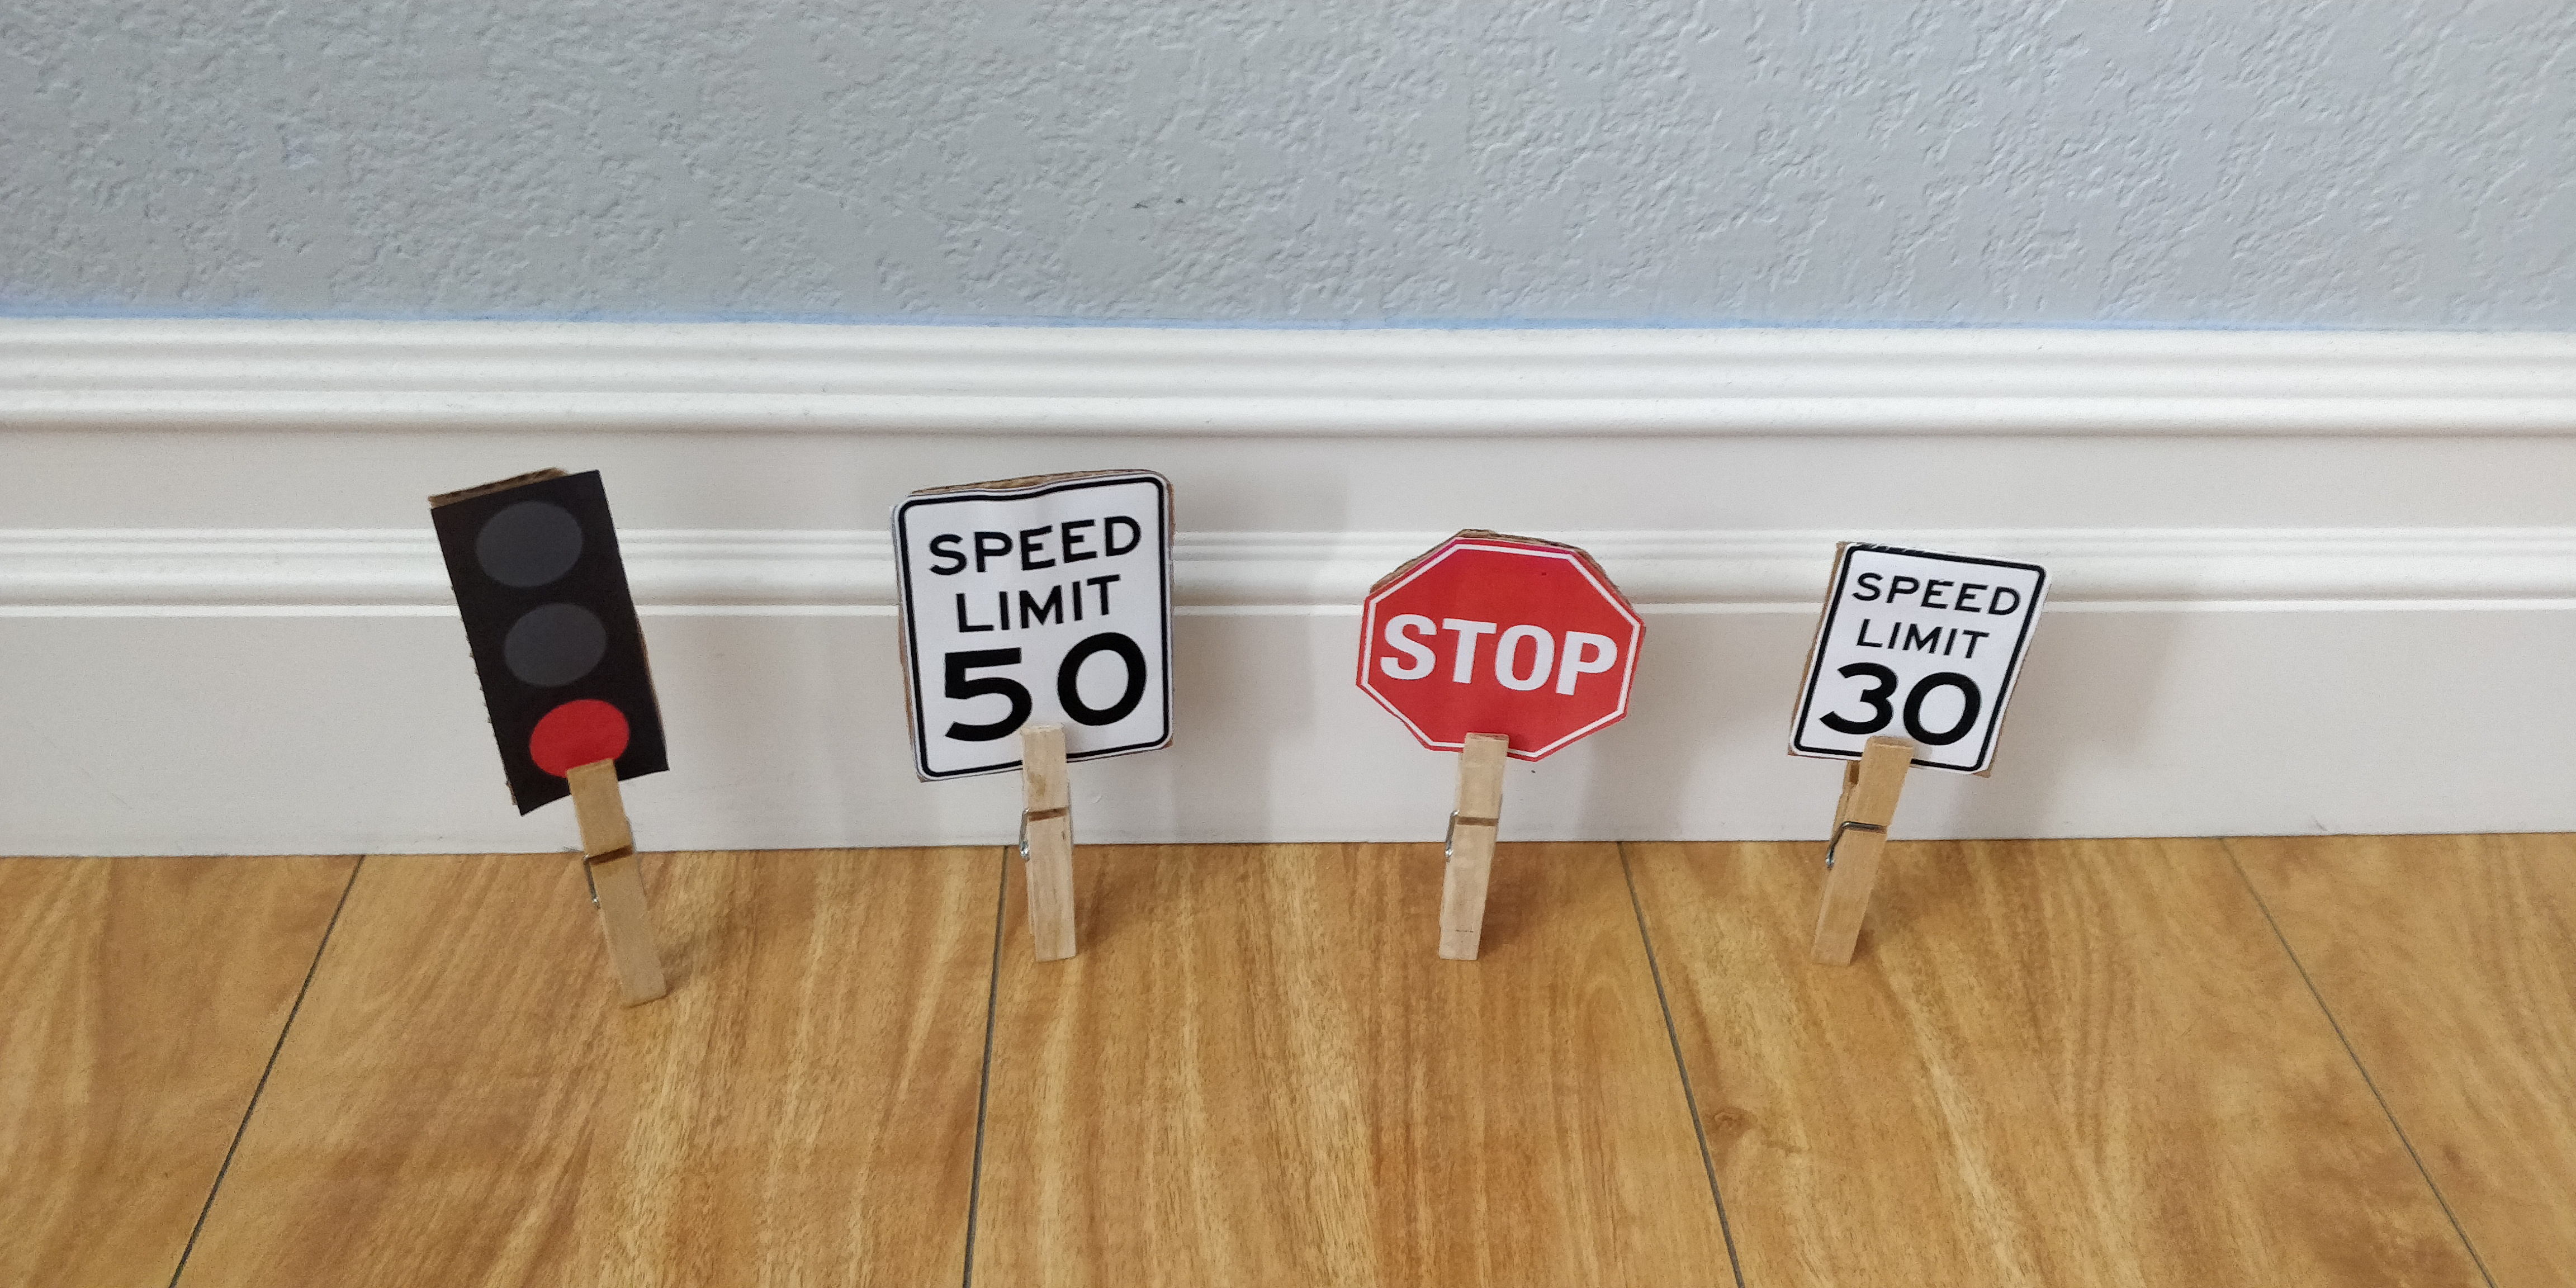Speed Limit 30: (1789, 539, 2049, 777)
Speed Limit 50: (885, 467, 1176, 784)
Stop Sign: (1357, 529, 1643, 764)
red light: (430, 468, 670, 813)
